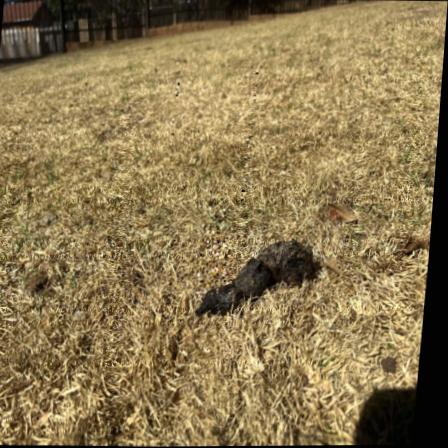dog-poop: (202, 241, 326, 306)
